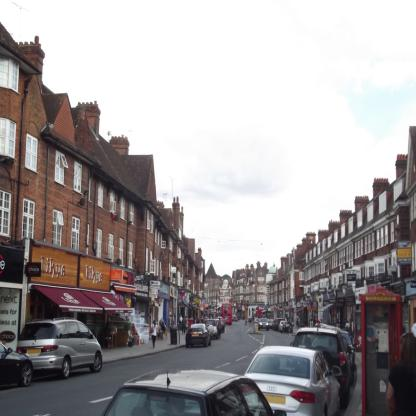Car: (103, 370, 288, 415), (239, 346, 345, 416), (12, 321, 110, 383), (293, 324, 356, 402), (0, 340, 34, 387), (183, 324, 211, 348), (336, 331, 355, 366), (203, 317, 219, 338), (214, 317, 225, 333), (279, 320, 290, 331), (259, 320, 269, 332), (271, 317, 281, 328), (232, 314, 238, 322), (256, 318, 260, 324)
